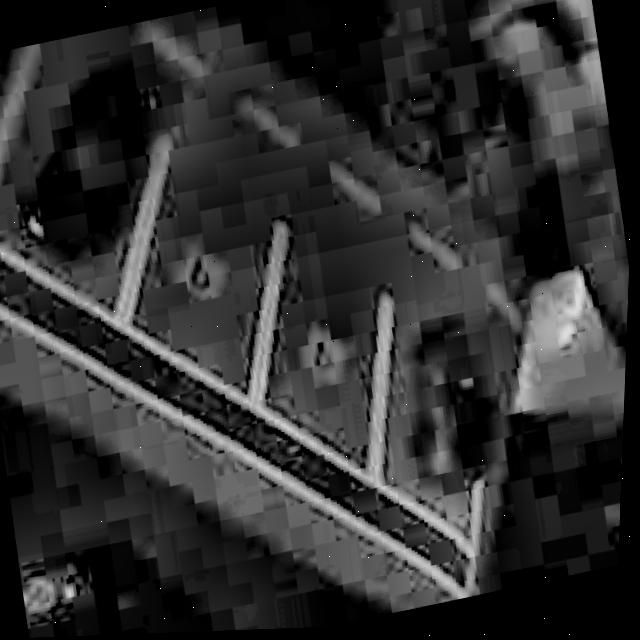car: (0, 54, 208, 286), (380, 298, 534, 514)
